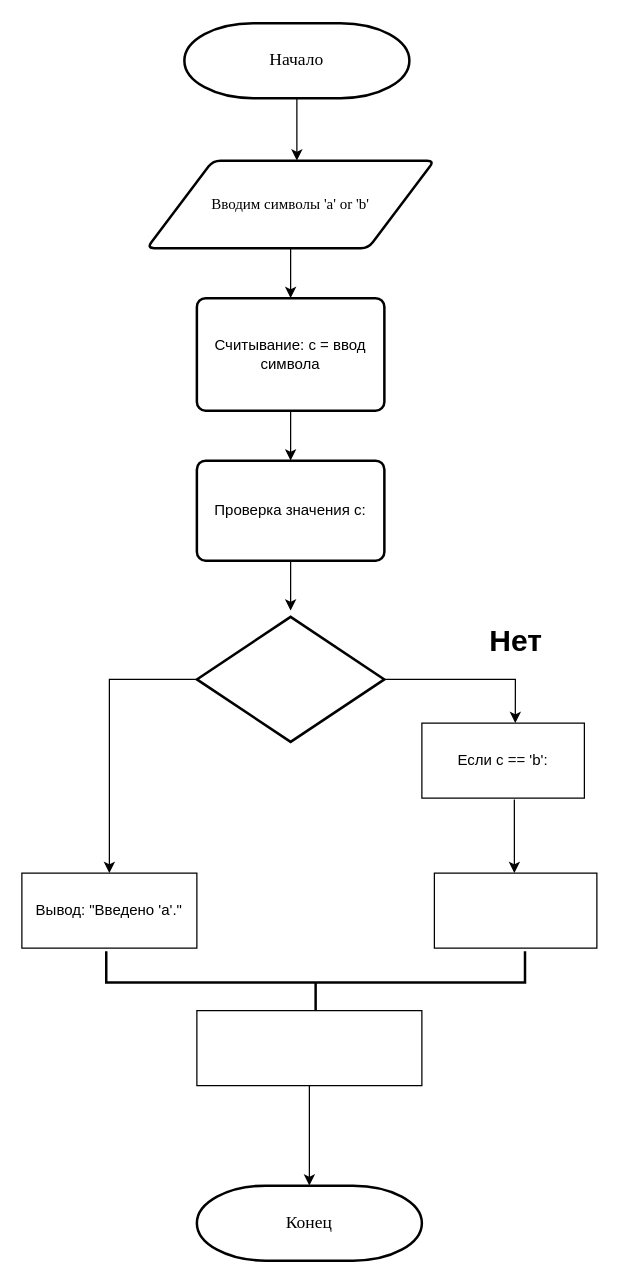
Some shapes in this 619 by 1283 pixel diagram are drawn without their labels. The shapes that lost their labels are listed below. From the top down, each one's box as (x1, y1, x2, y2) in pixels, then its label:
(195, 615, 385, 742): Если c == 'a':
(433, 872, 597, 948): Вывод: "Введено 'b'."
(196, 1009, 422, 1086): Вывод: "Неизвестный символ"
